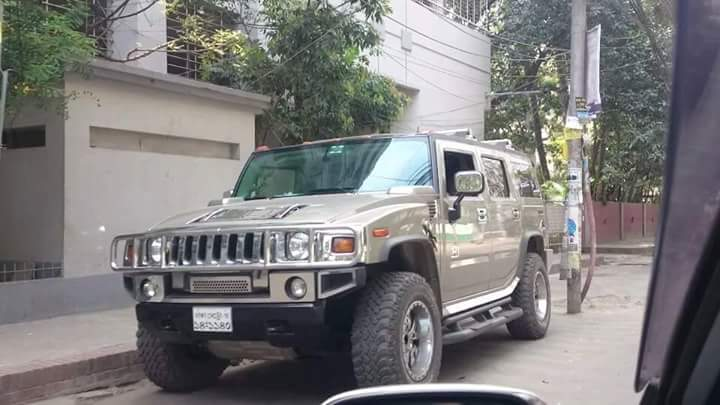registration_plate: (191, 306, 233, 333)
